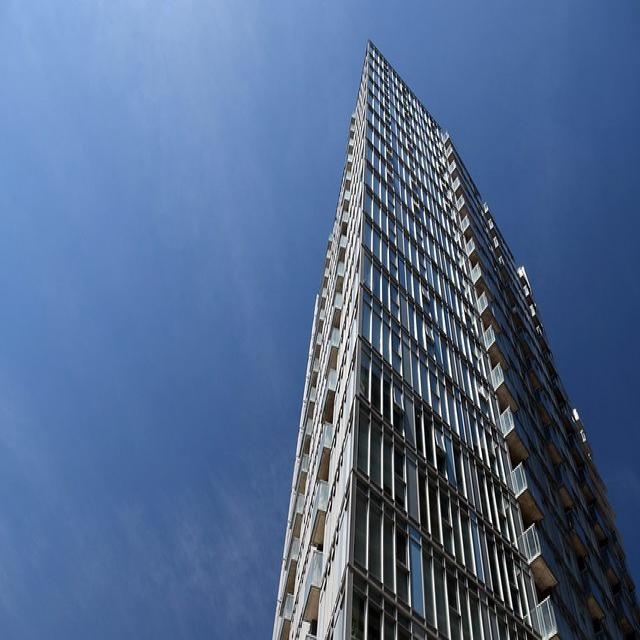Normal_building: (269, 37, 640, 640)
